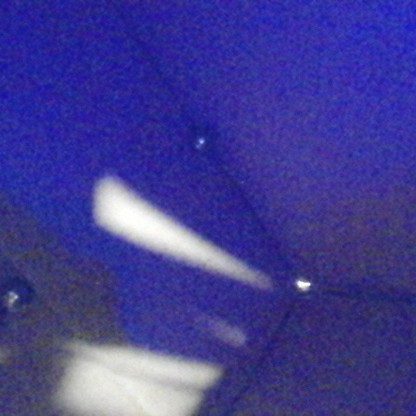ironball: (1, 276, 38, 319), (187, 122, 217, 155)
